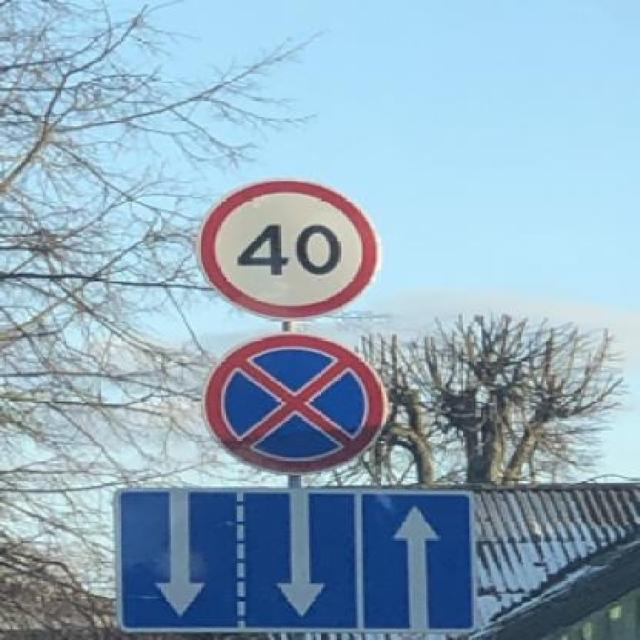forb_speed_over_40: (199, 181, 378, 318)
